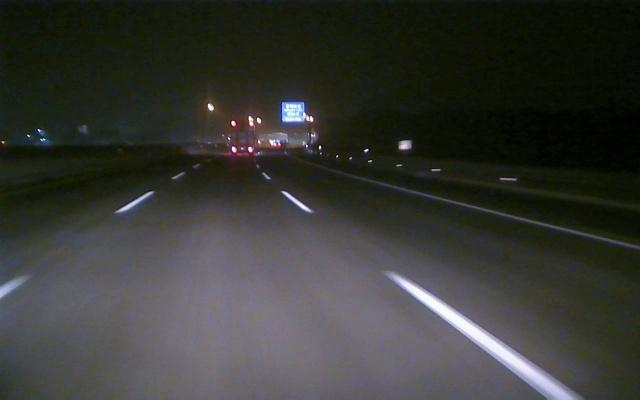lane: (270, 182, 585, 399), (376, 181, 640, 252), (1, 195, 148, 298)
